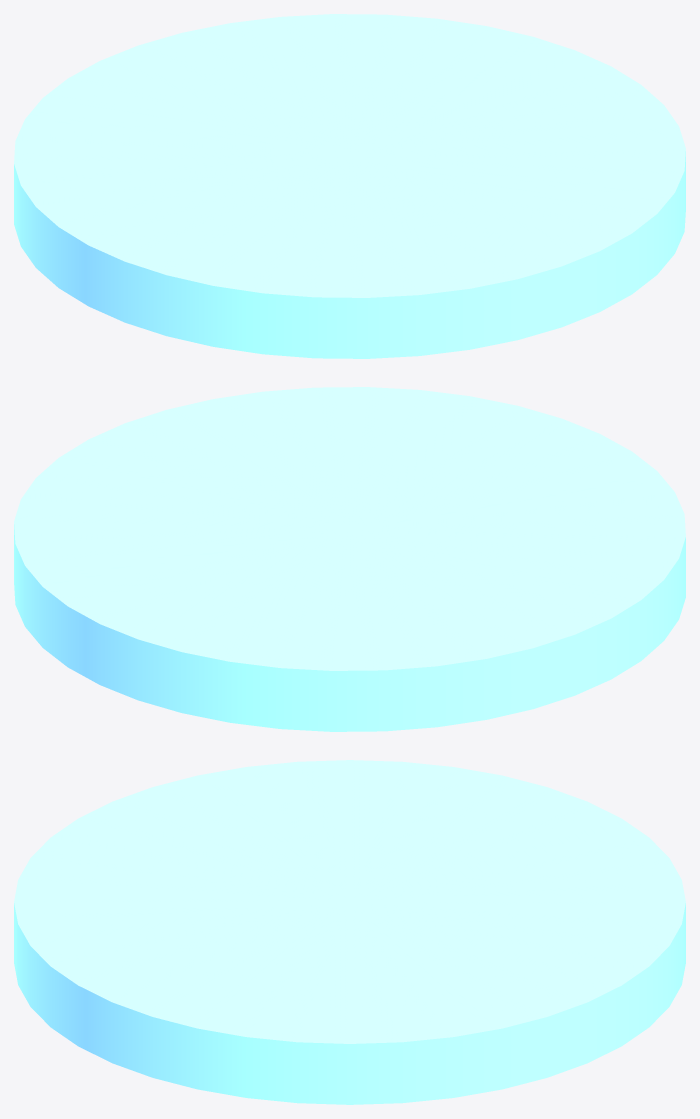
The model's file is MarkerMove.glb.
3 renders of one model, top to bottom at view 1: azimuth 30°, elevation 25°; view 2: azimuth 150°, elevation 25°; view 3: azimuth 270°, elevation 25°, orthographic.
Parts seen in each view (by area): view 1: MarkerMove; view 2: MarkerMove; view 3: MarkerMove.
Part boxes in pixels (bbox=[...]): MarkerMove: bbox=[14, 14, 685, 358]; MarkerMove: bbox=[14, 387, 685, 731]; MarkerMove: bbox=[14, 760, 685, 1104].
Bounding box in the file's own units: 0.3 × 0.03 × 0.3.
